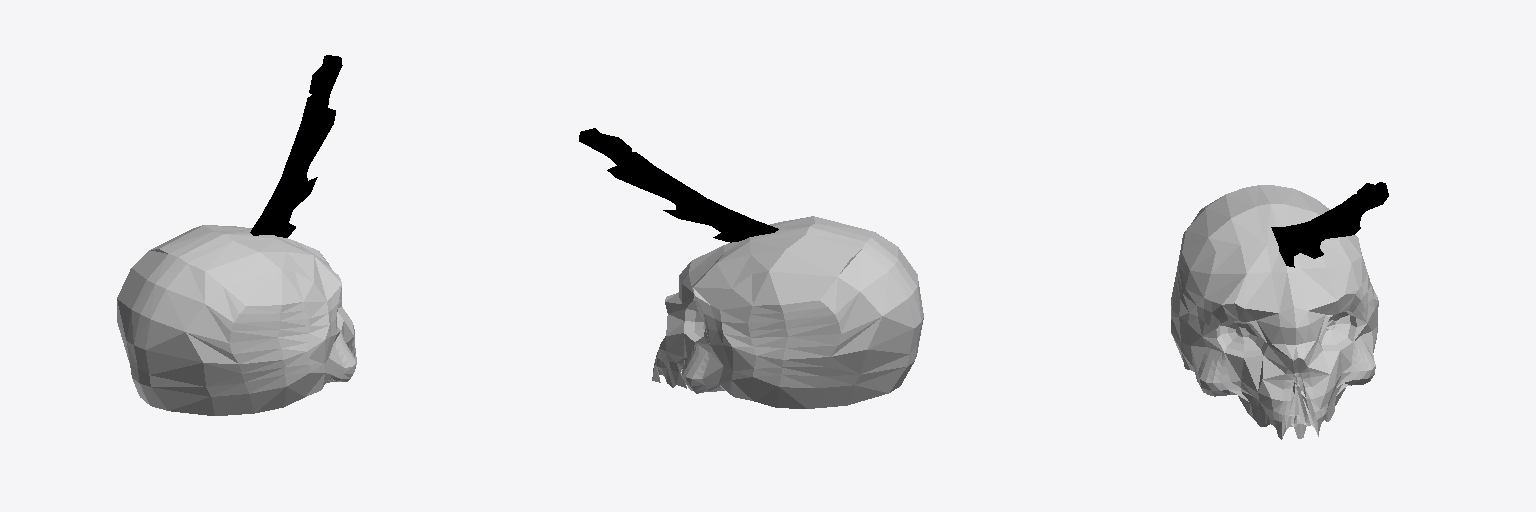
The model's file is skull.obj.
3 views of the same model, side by side, from view 1: azimuth 30°, elevation 25°; view 2: azimuth 150°, elevation 25°; view 3: azimuth 270°, elevation 25° (orthographic).
Visible parts, largest first — view 1: Plane.001; view 2: Plane.001; view 3: Plane.001.
Boxes of the visible parts, box(x1,y1,x2,y2) form: Plane.001: box(117, 55, 356, 415); Plane.001: box(579, 128, 923, 408); Plane.001: box(1171, 182, 1388, 439).
Bounding box in the file's own units: 0.7577 × 0.7049 × 0.5198.